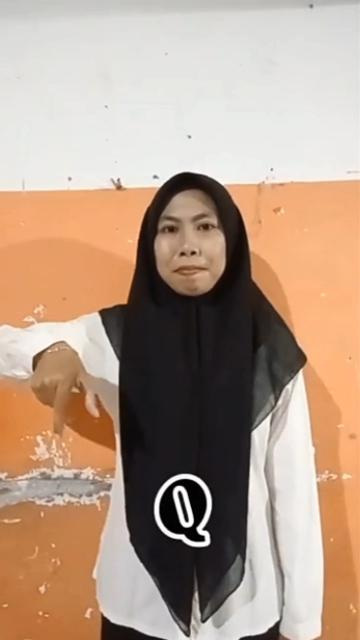Q: (28, 341, 108, 441)
